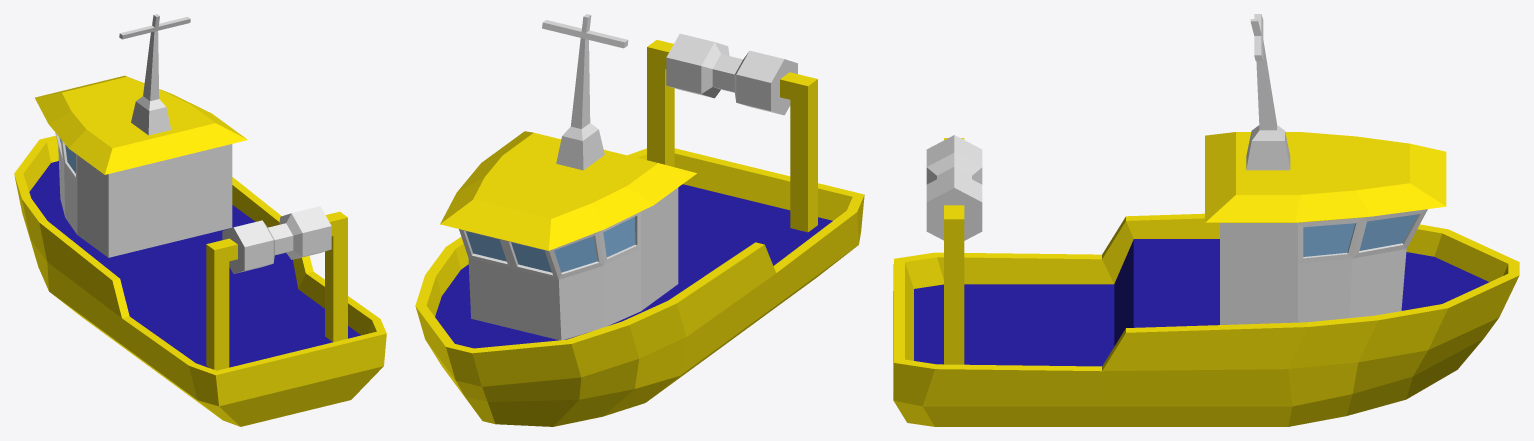
The model's file is BoatYellowBMed.fbx.
The picture shows the model from 3 angles, left to right: view 1: azimuth 30°, elevation 25°; view 2: azimuth 150°, elevation 25°; view 3: azimuth 270°, elevation 25°; orthographic projection. The views are drawn at different scales.
Parts seen in each view (by area): view 1: BoatYelMed; view 2: BoatYelMed; view 3: BoatYelMed.
Part boxes in pixels (<box>): BoatYelMed: <box>14,14,386,426</box>; BoatYelMed: <box>415,14,864,426</box>; BoatYelMed: <box>893,14,1519,426</box>.
Bounding box in the file's own units: 200 × 295 × 454.
